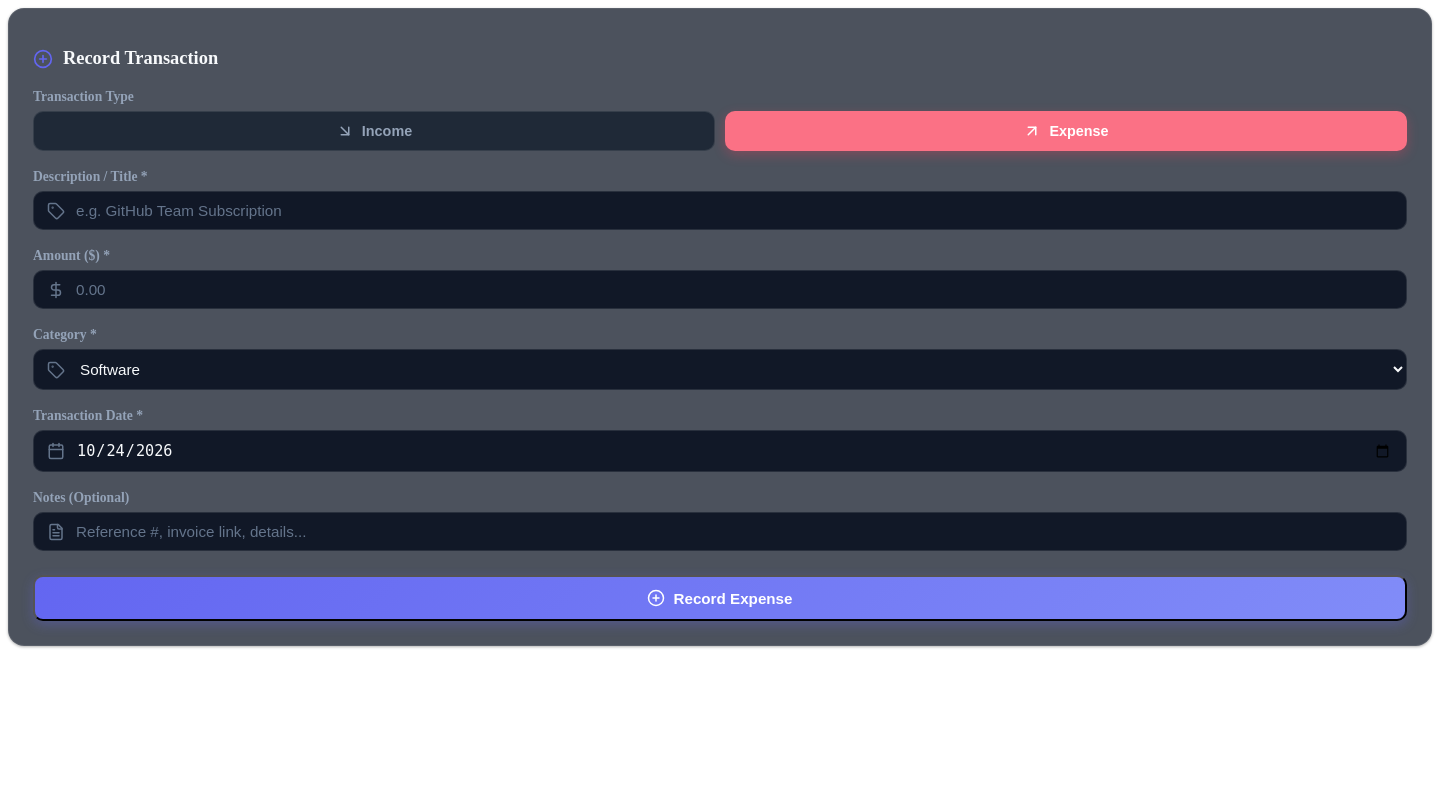
Test case: TransactionForm Component › switches between income and expense types and updates categories
Click the radio button with test id "type-income-btn" at (374, 131), box [33, 111, 715, 151]
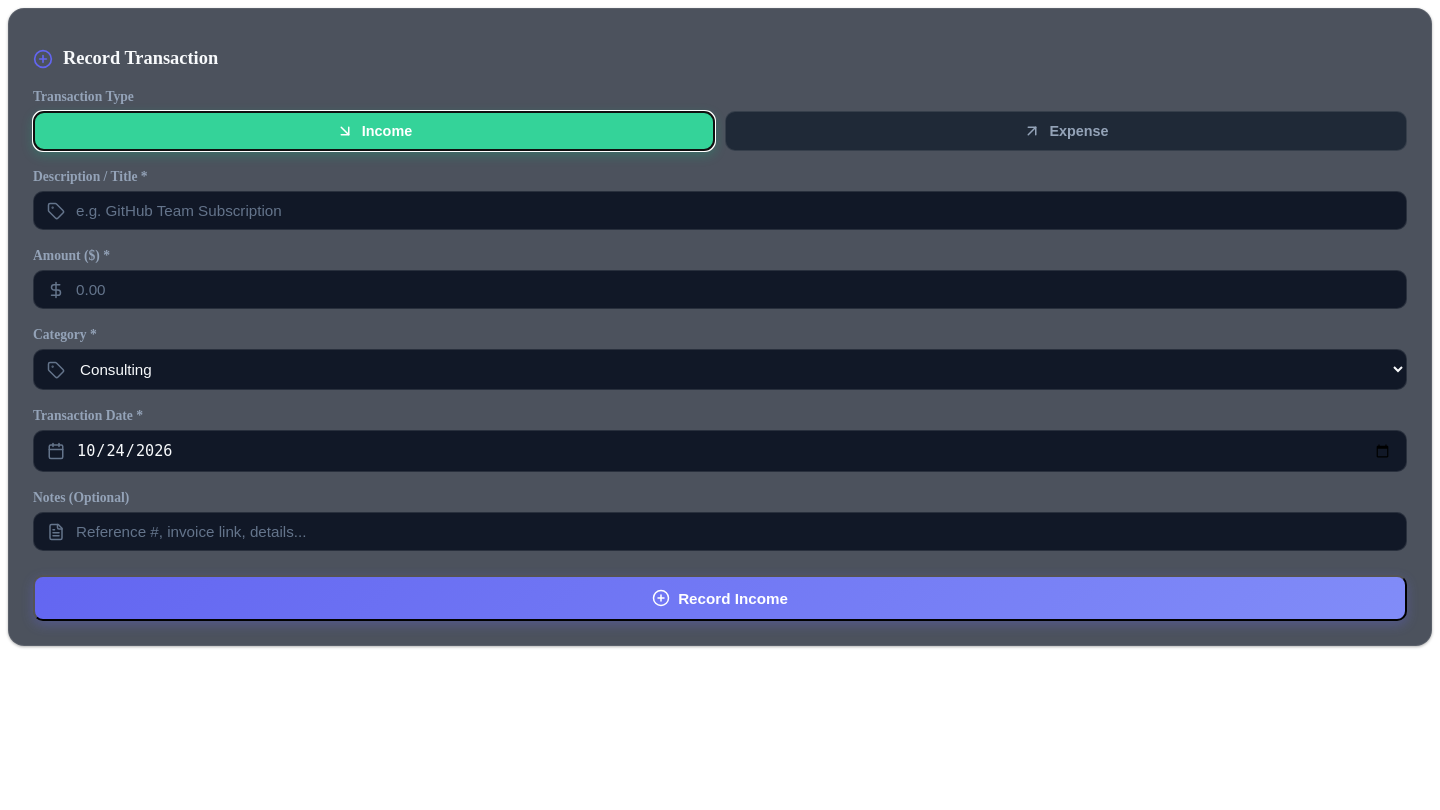
Expected: the button with test id "submit-transaction-btn" reads "Record Income", [33, 575, 1407, 621]
